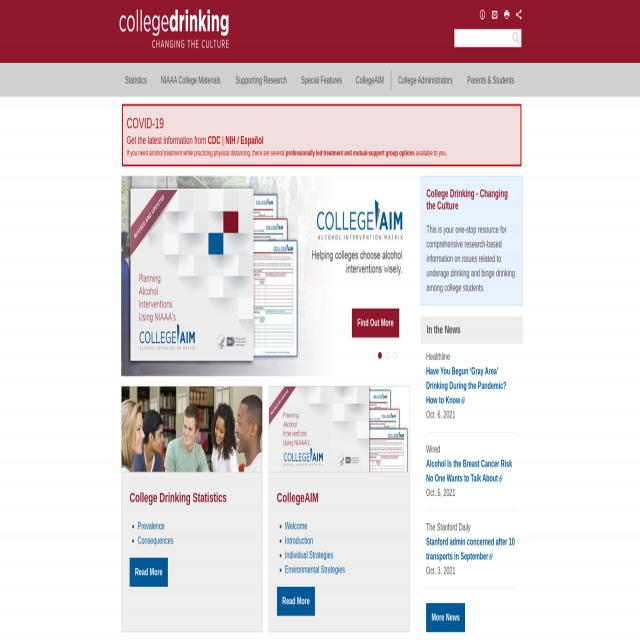button: (121, 176, 410, 376), (122, 387, 262, 472), (269, 387, 409, 472), (118, 10, 230, 49), (352, 308, 399, 337), (426, 603, 465, 632), (130, 558, 168, 587), (277, 587, 315, 616), (502, 8, 512, 20), (516, 10, 522, 20), (480, 10, 485, 20), (492, 10, 497, 20)
field: (454, 30, 522, 48)
